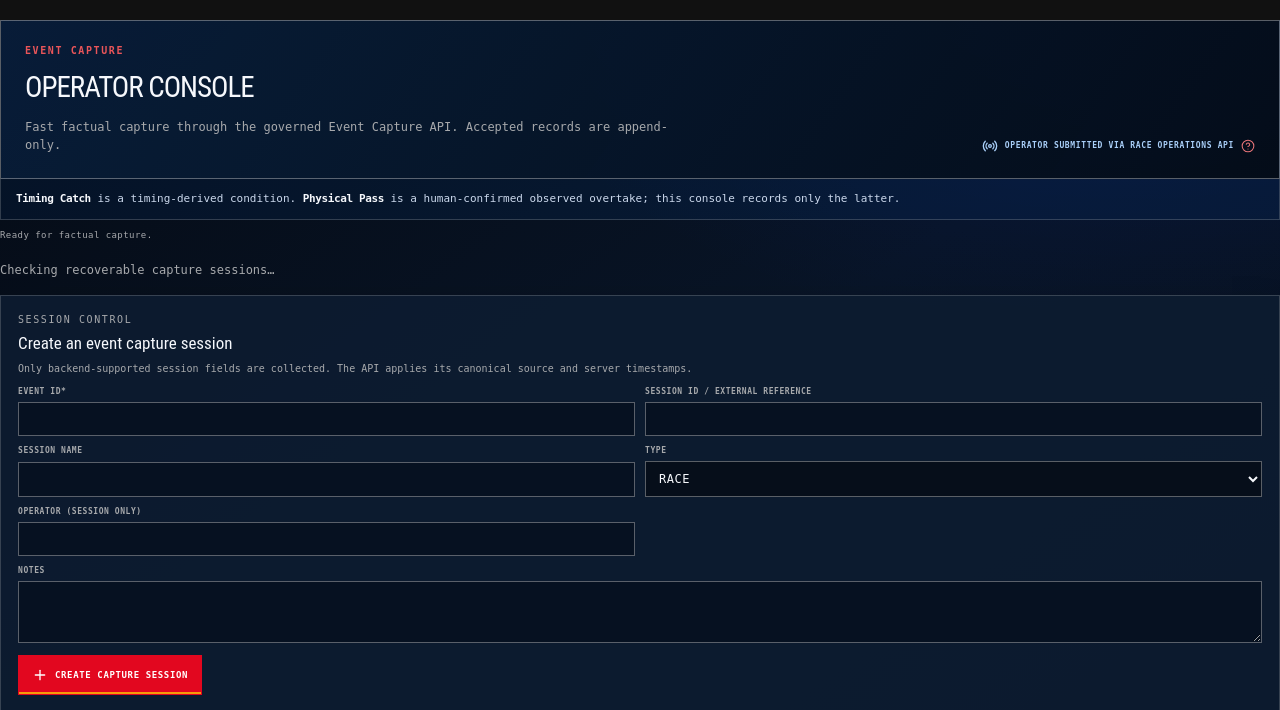
Test: EventCaptureConsole › shows PENDING acknowledgement for a media marker and does not invent race time
This screenshot has width=1280, height=710.
In the field labelled "EVENT ID*": {"x": 326, "y": 419} [18, 402, 635, 436], type "EVENT_01"
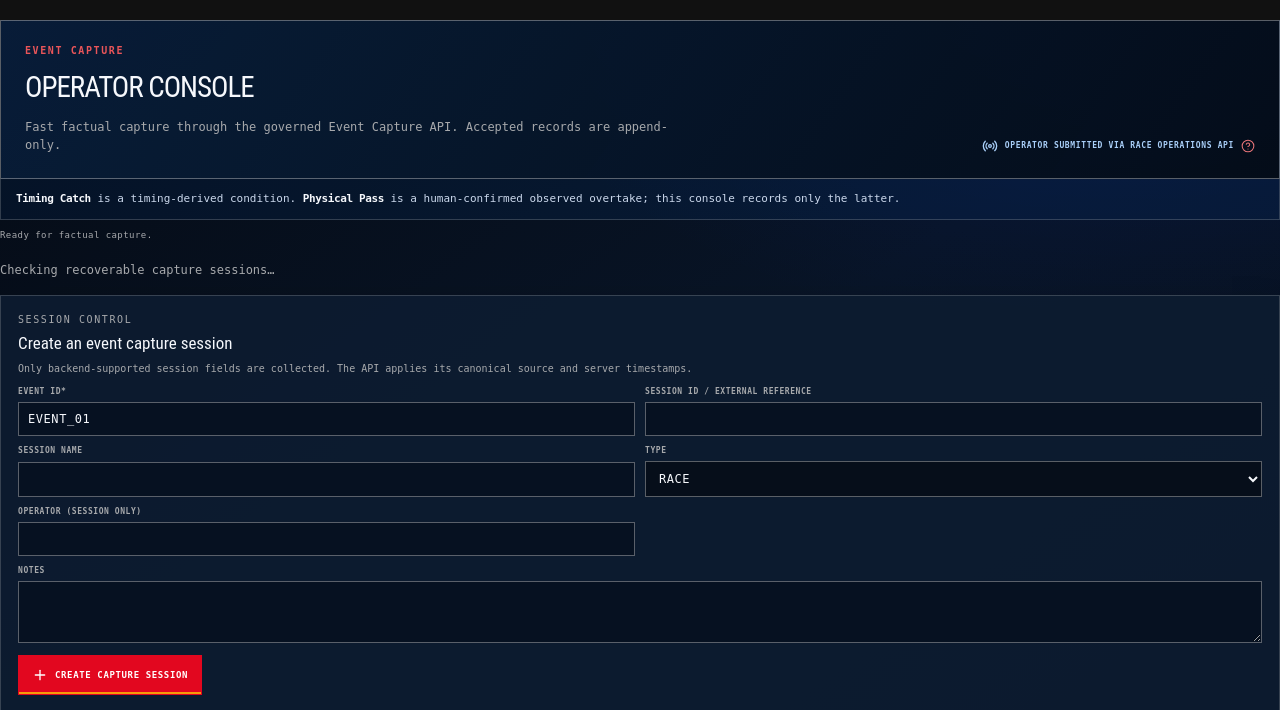
Click the button "CREATE CAPTURE SESSION": {"x": 110, "y": 675} [18, 655, 202, 695]
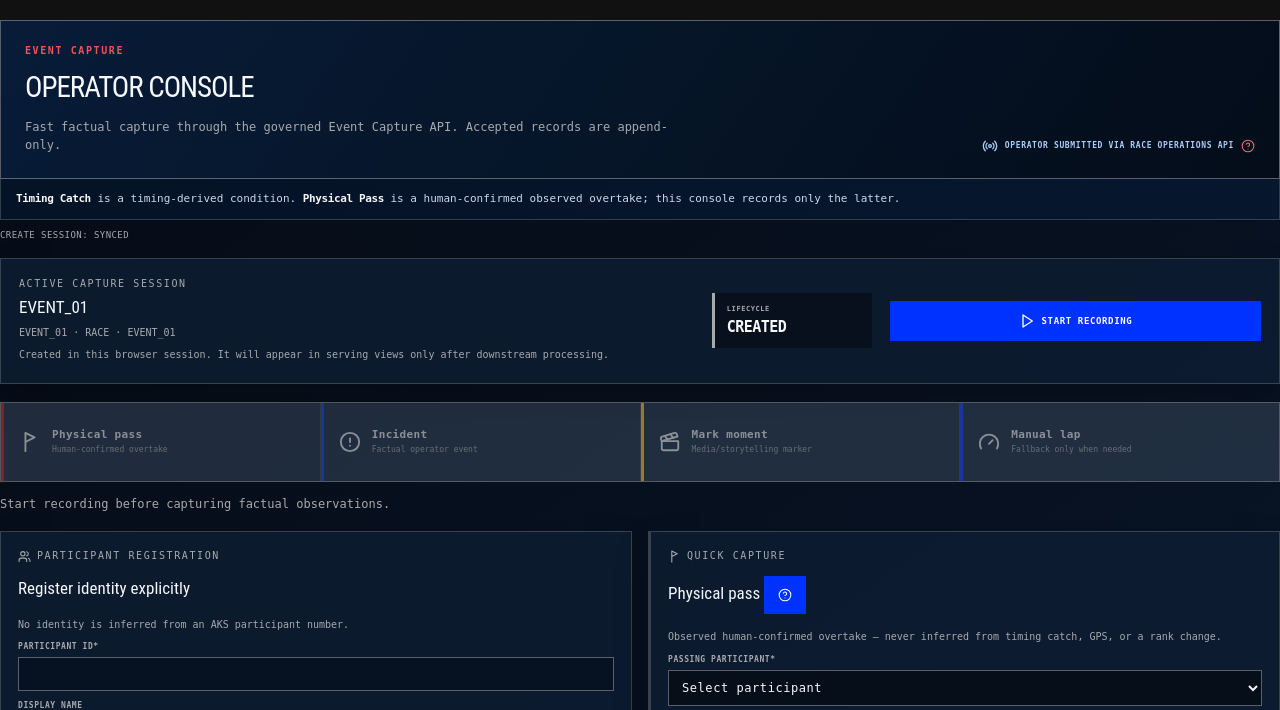
Check: the text "CREATED" is shown, box [727, 318, 786, 336]
Click the button "START RECORDING": {"x": 1075, "y": 321} [890, 301, 1261, 341]
(page scrolled)
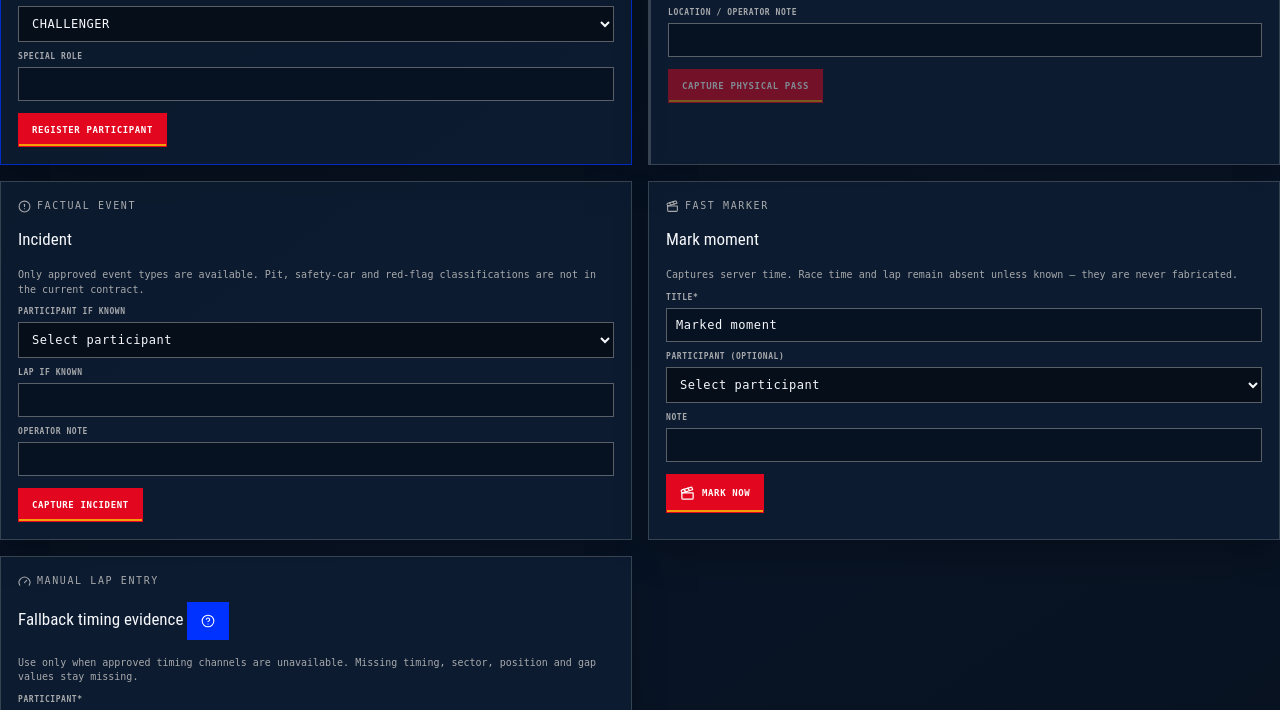
Submit the form with id "capture-media", box [648, 181, 1279, 540]
(page scrolled)
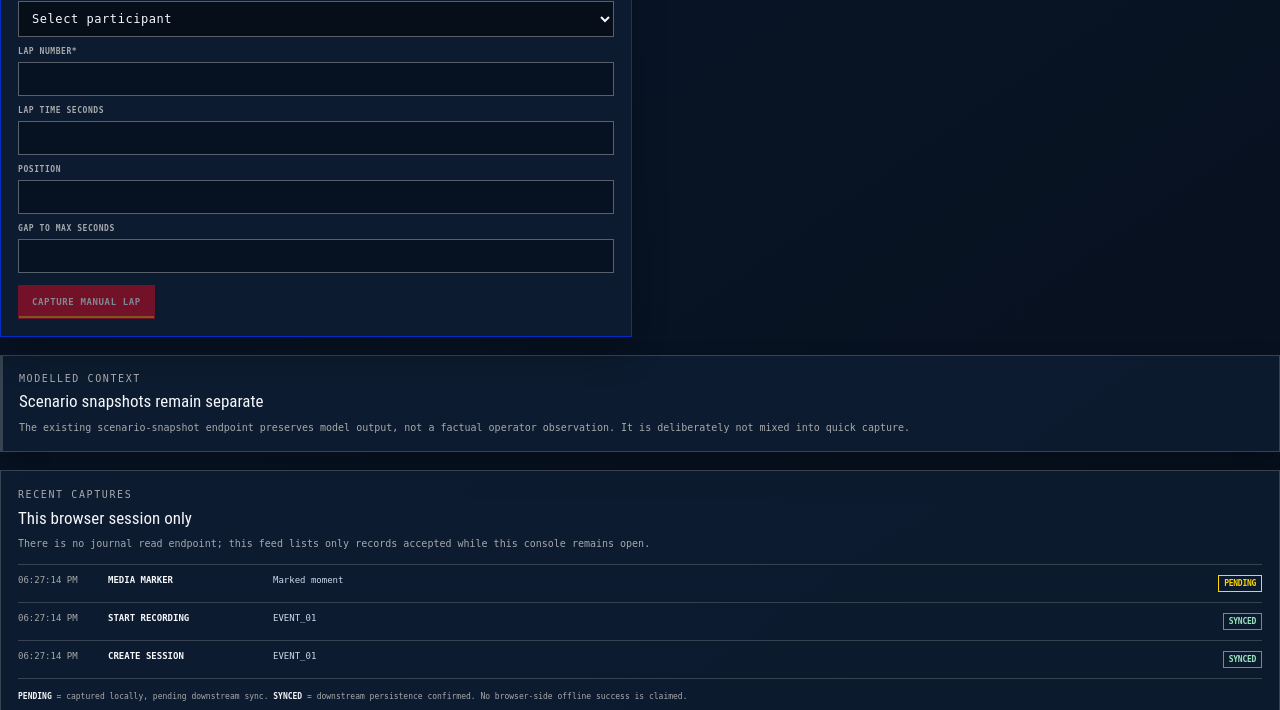
Check: the text "PENDING" in the row of "Marked moment" is shown, box [1224, 578, 1256, 588]
